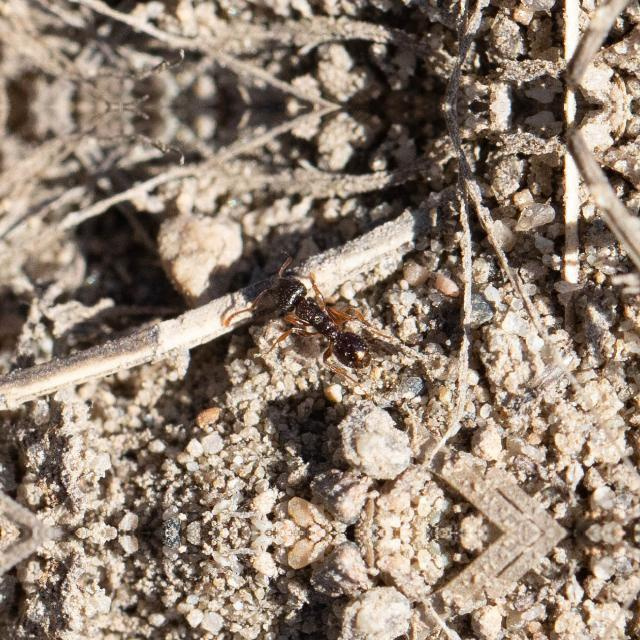Tetramorium: (248, 252, 384, 382)
